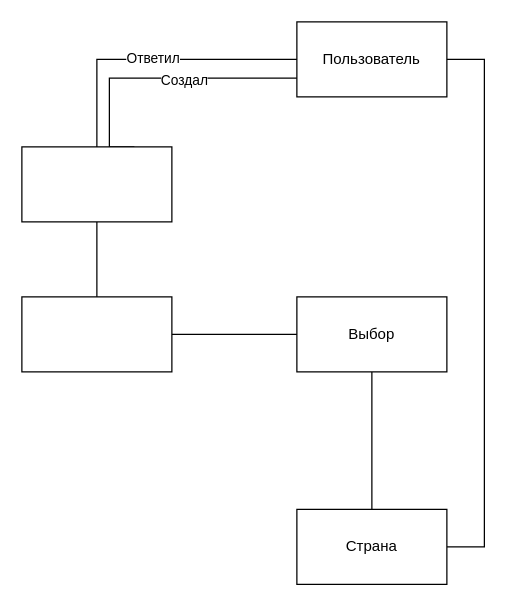
Image size: 508x606. Some labels were removed from this diagram. Here are the shapes that lost their labels. From the top down, the centre of each, then its label:
At (x=96, y=184): "Анкета".
At (x=96, y=334): "Вариант ответа".
